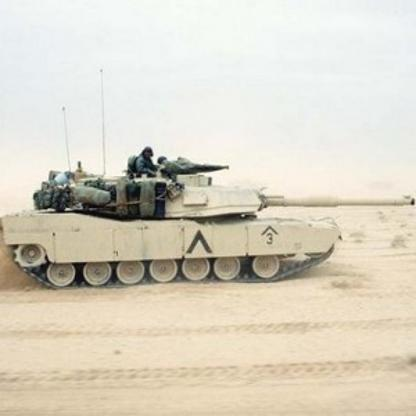Tank: (6, 135, 416, 293)
